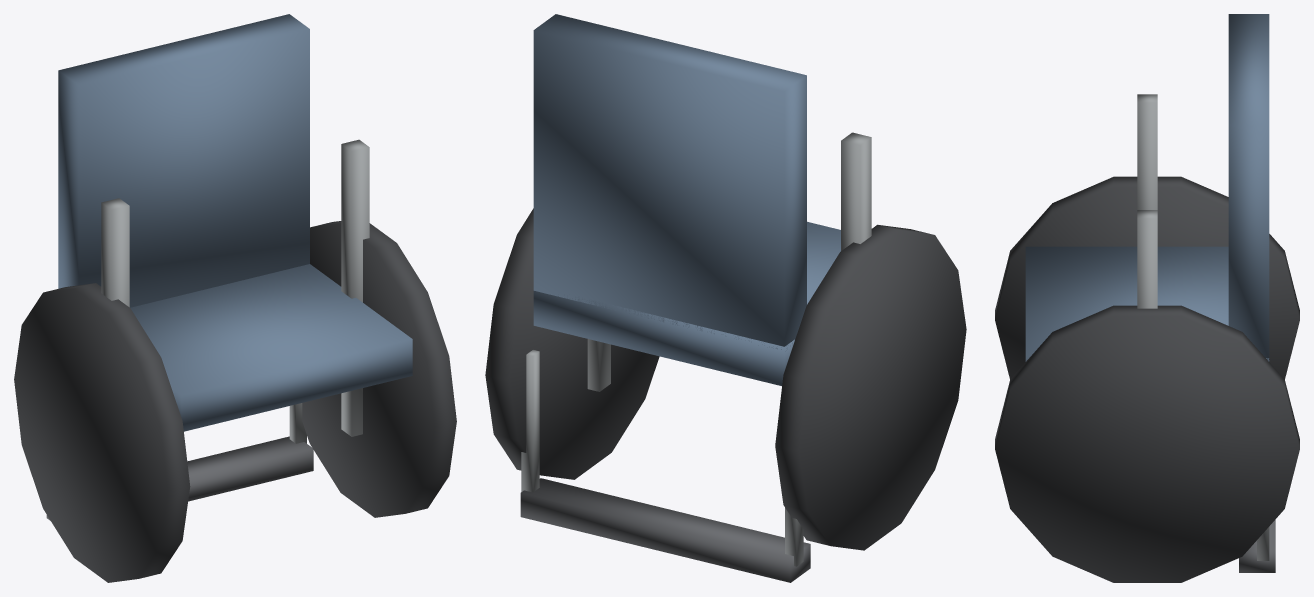
Rendered from wheelchair__reinforced.glb.
3 renders of one model, left to right at view 1: azimuth 30°, elevation 25°; view 2: azimuth 150°, elevation 25°; view 3: azimuth 270°, elevation 25°, orthographic. The views are drawn at different scales.
Parts seen in each view (by area): view 1: world; view 2: world; view 3: world.
Boxes of the visible parts, x1,y1,x2,y2 form: world: [14, 14, 456, 582]; world: [485, 14, 966, 582]; world: [995, 14, 1299, 582].
Bounding box in the file's own units: 0.6695 × 0.9919 × 0.618.
